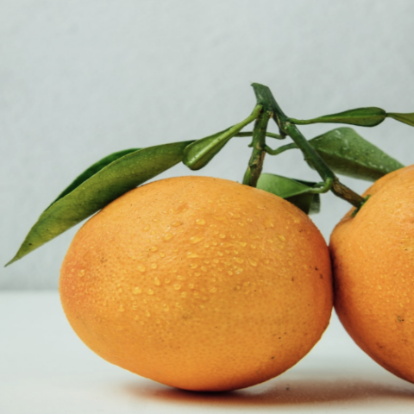orange: (32, 152, 362, 406)
